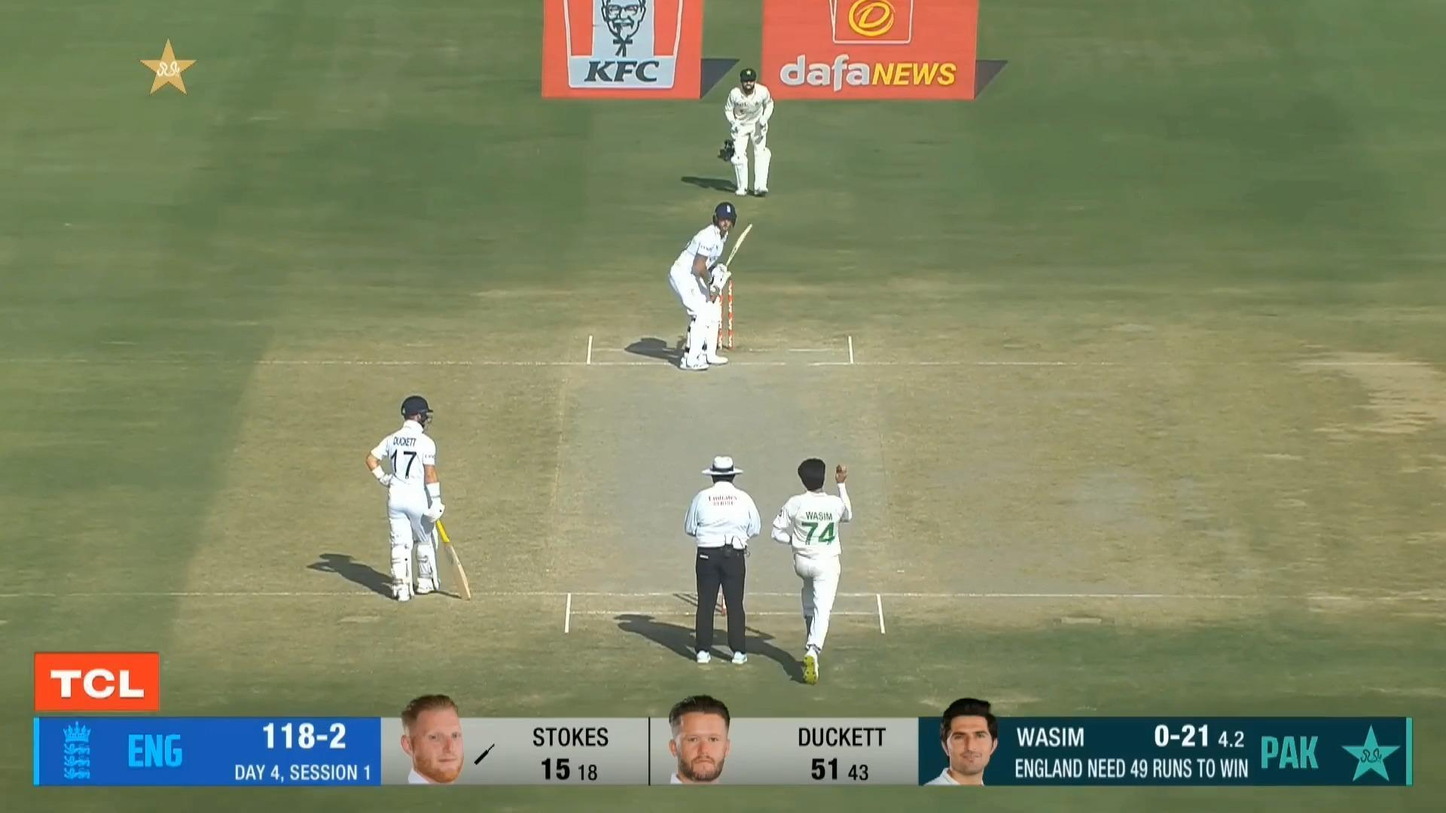BM 1: (668, 201, 753, 371)
BO: (770, 456, 855, 686)
